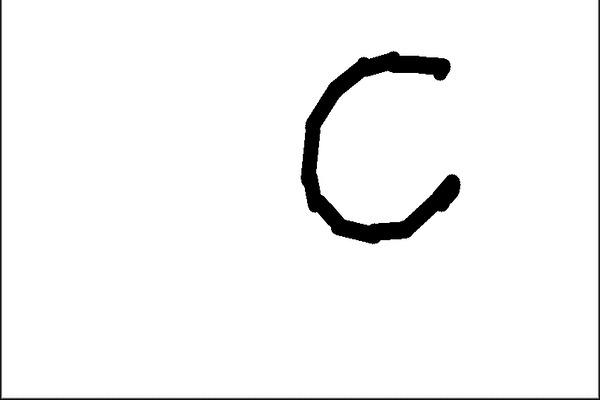C: (294, 46, 466, 248)
